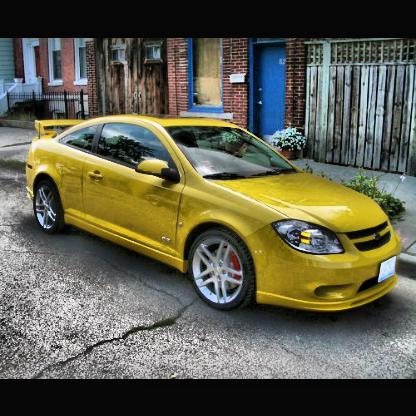Chevrolet Cobalt SS 2010: (25, 115, 404, 315)
